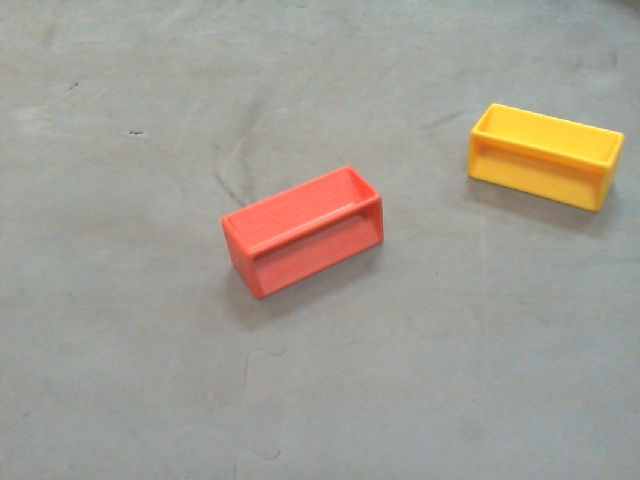RedSample: (221, 167, 383, 296)
YellowSample: (466, 101, 628, 217)
